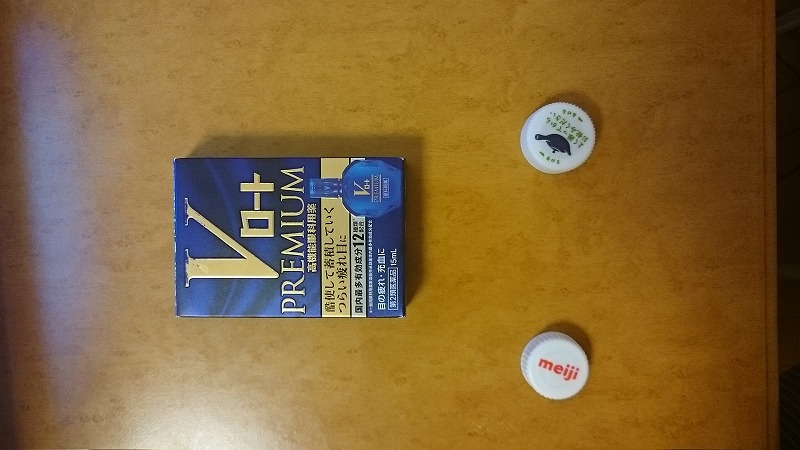A: (513, 94, 601, 181)
B: (512, 319, 596, 406)
D: (162, 148, 413, 327)
